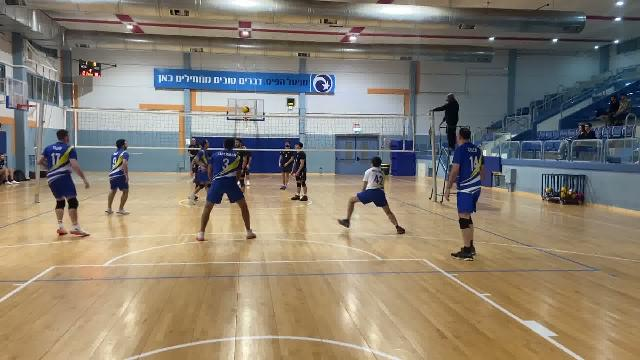ball: (243, 104, 252, 116)
